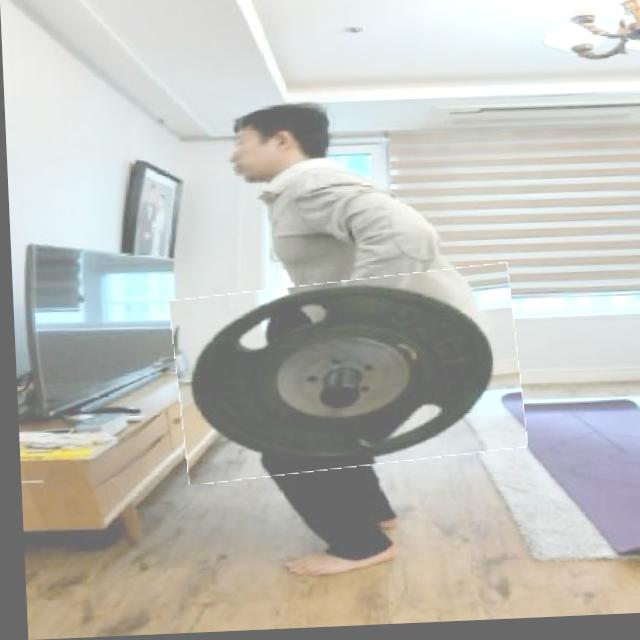barbell: (170, 274, 522, 482)
